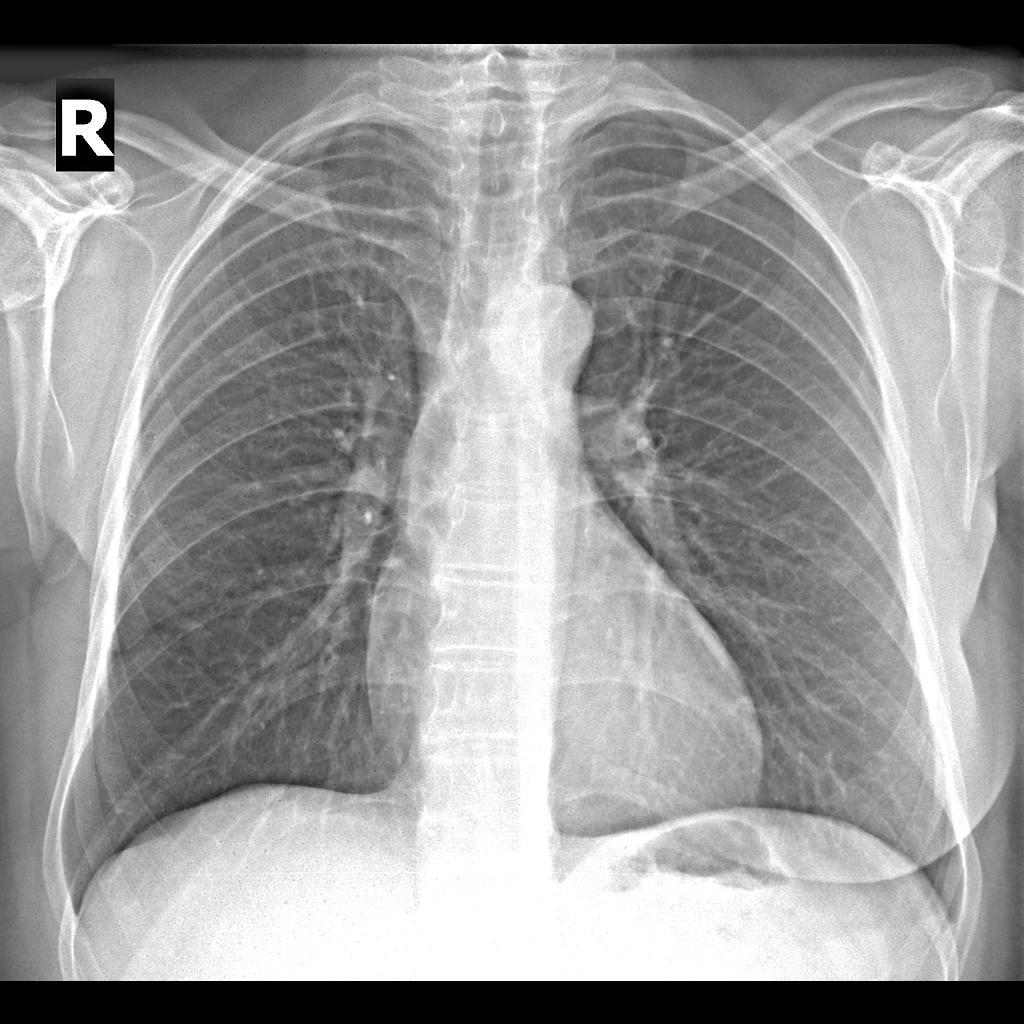Nodule: (175, 604, 232, 670)
